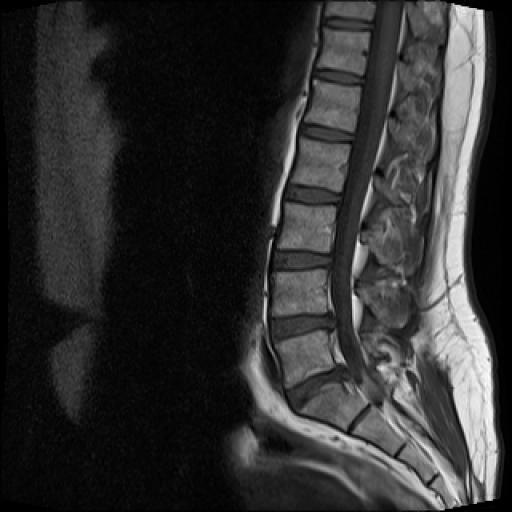L1: (304, 79, 362, 132)
L2: (290, 136, 350, 190)
L3: (277, 202, 336, 252)
L4: (272, 269, 327, 316)
L5: (275, 330, 334, 388)
S1: (300, 383, 365, 432)
